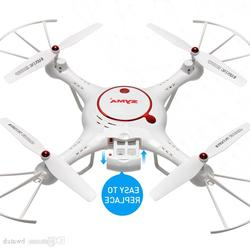drone: (1, 21, 250, 234)
